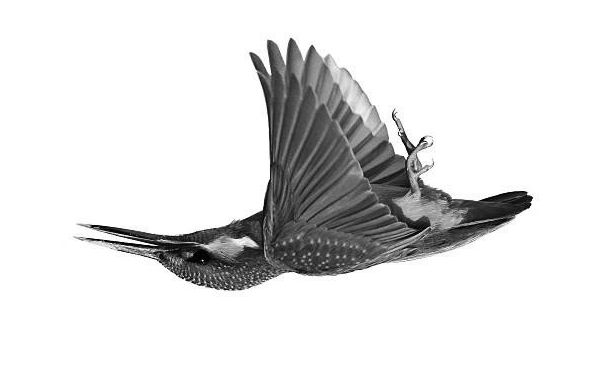Bird: (69, 33, 533, 293)
